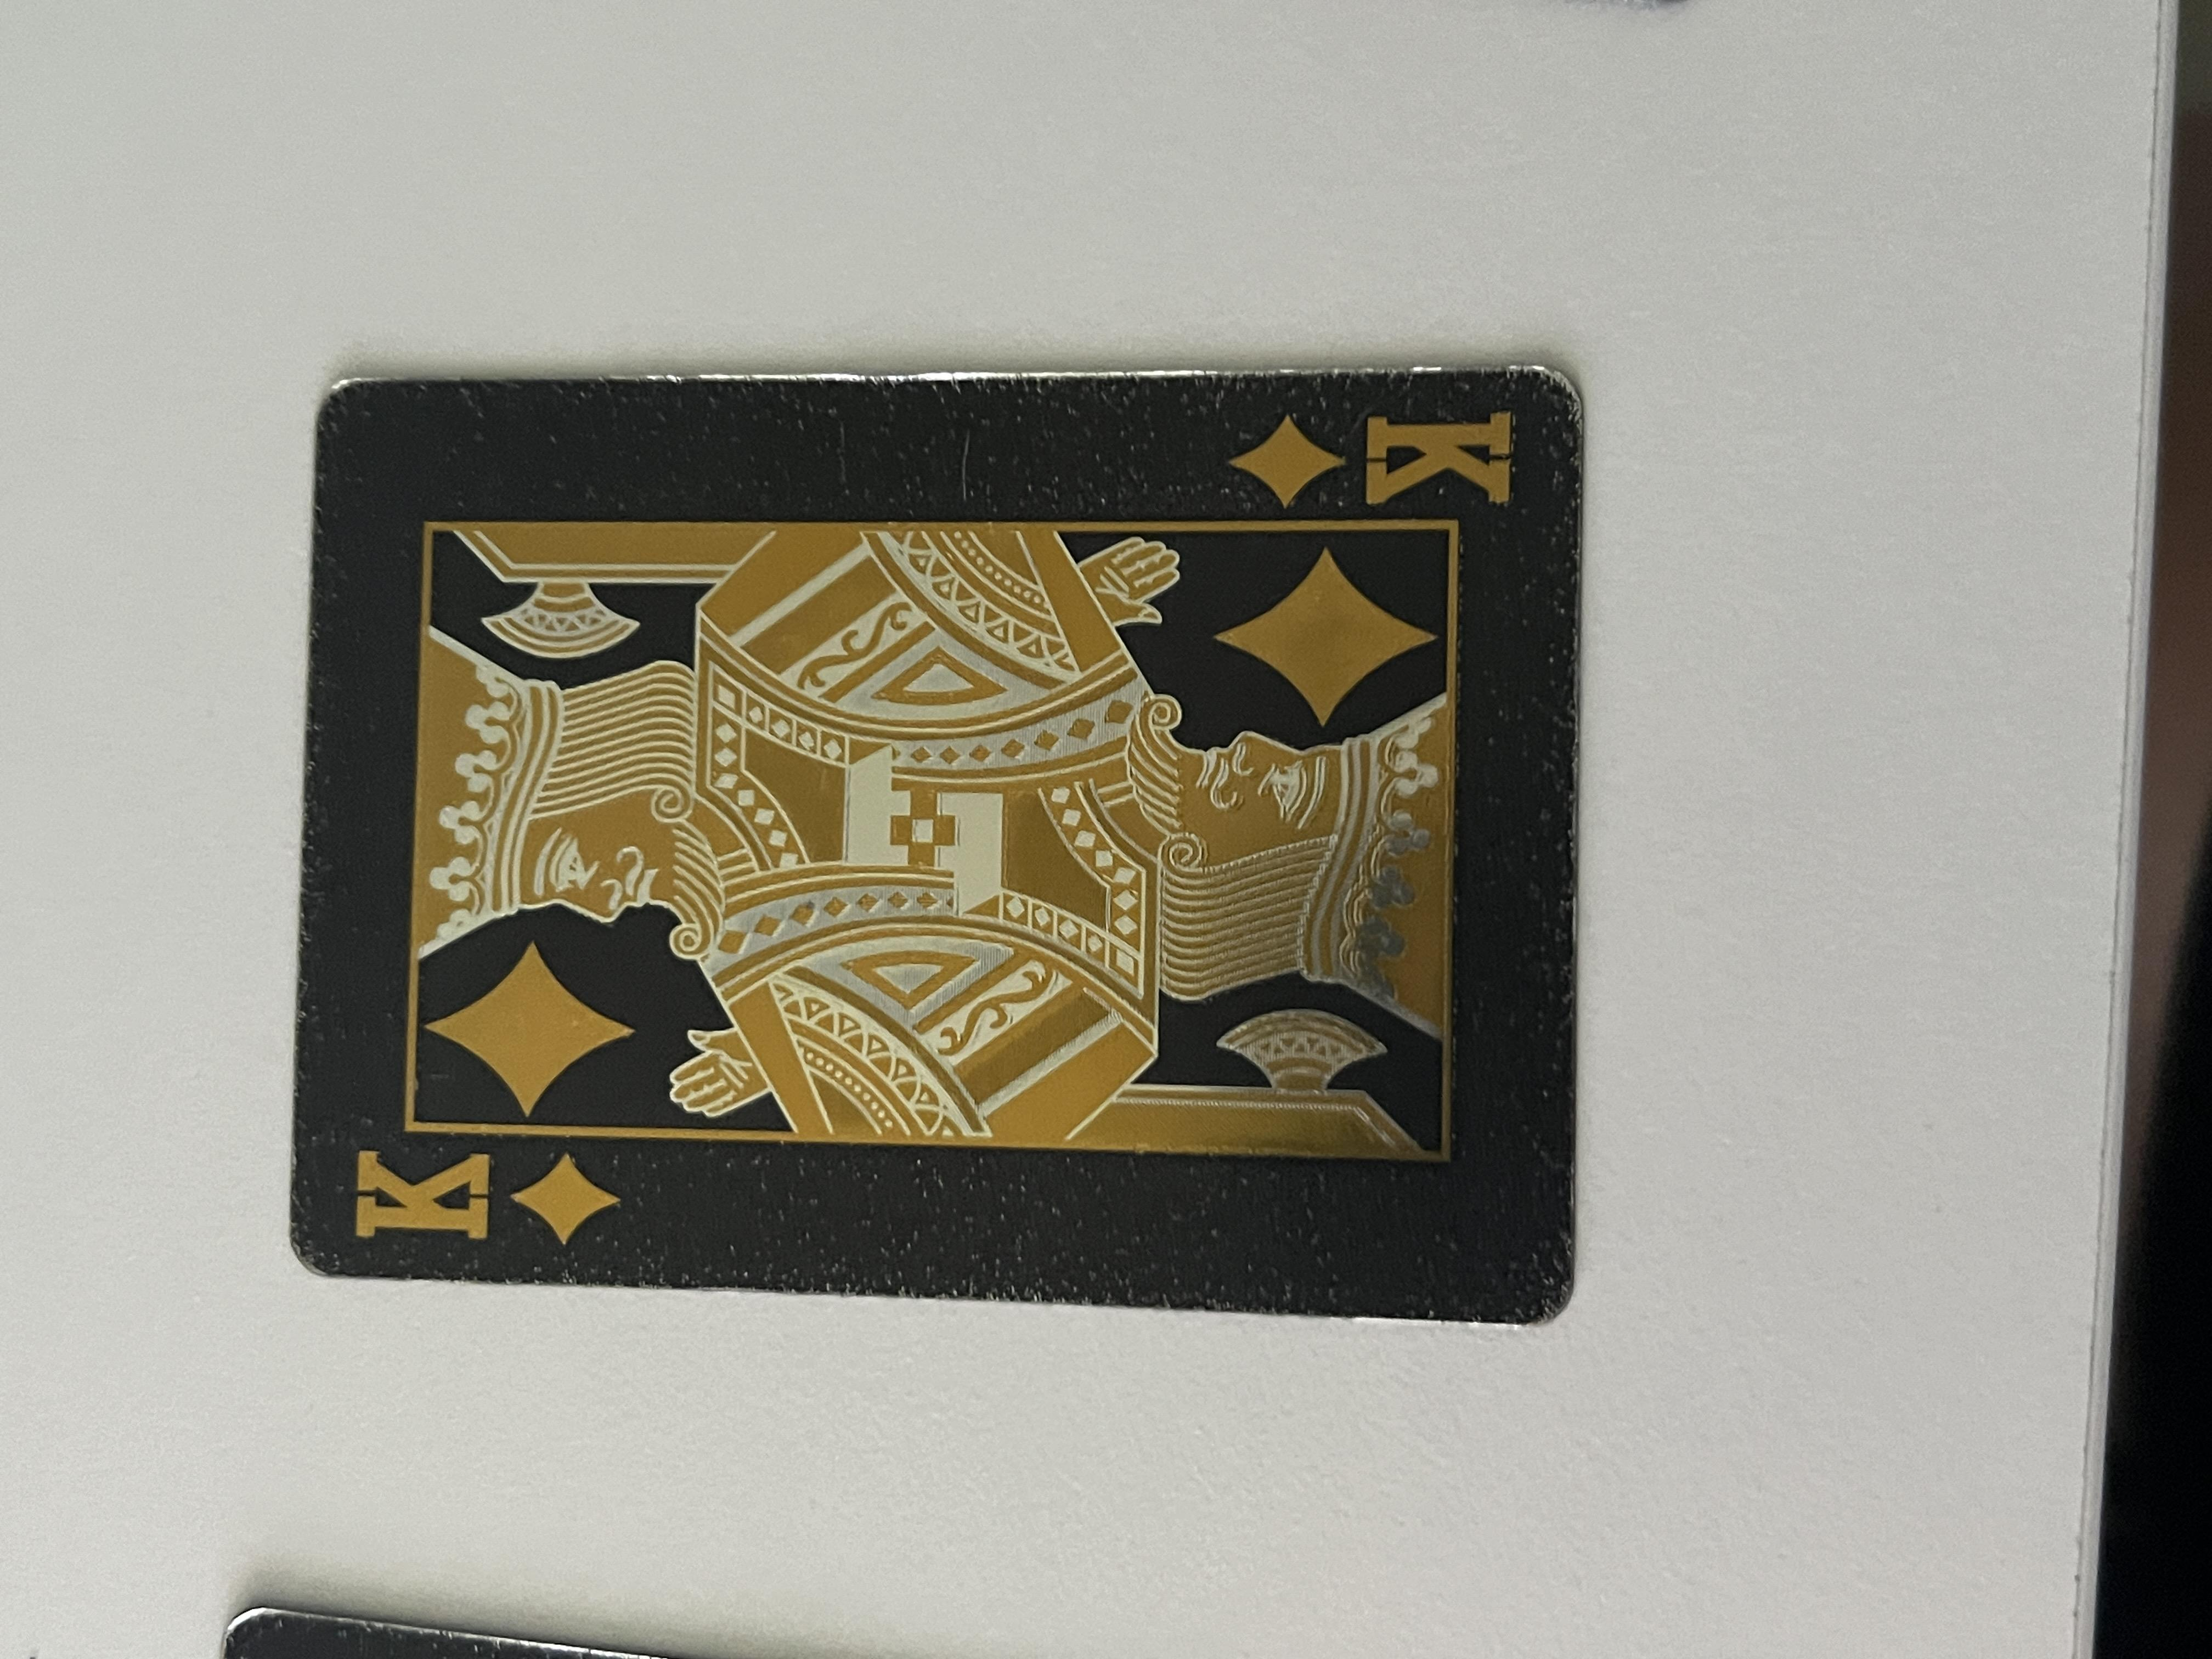KD: (529, 247, 691, 479), (1522, 915, 1683, 1148)
